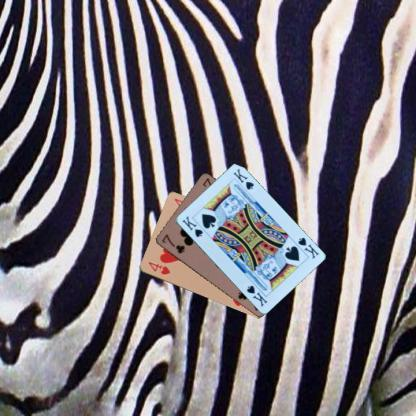4h: (146, 258, 171, 276)
7c: (160, 232, 186, 254)
Ks: (295, 235, 320, 260), (180, 214, 204, 238)
